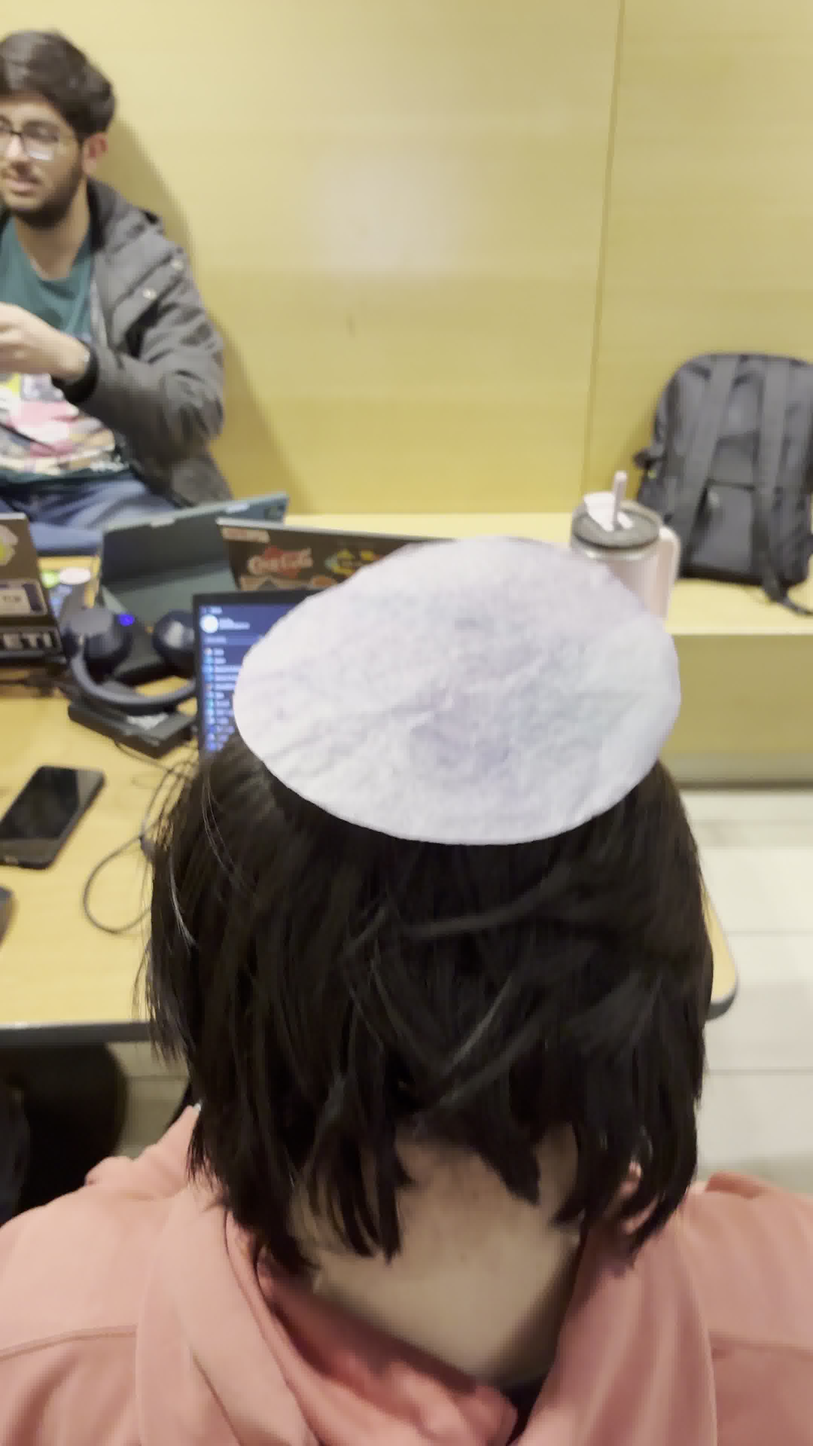Target: (231, 534, 680, 848)
